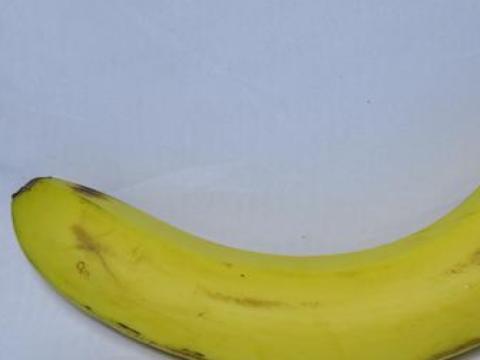freshripe: (4, 138, 479, 359)
